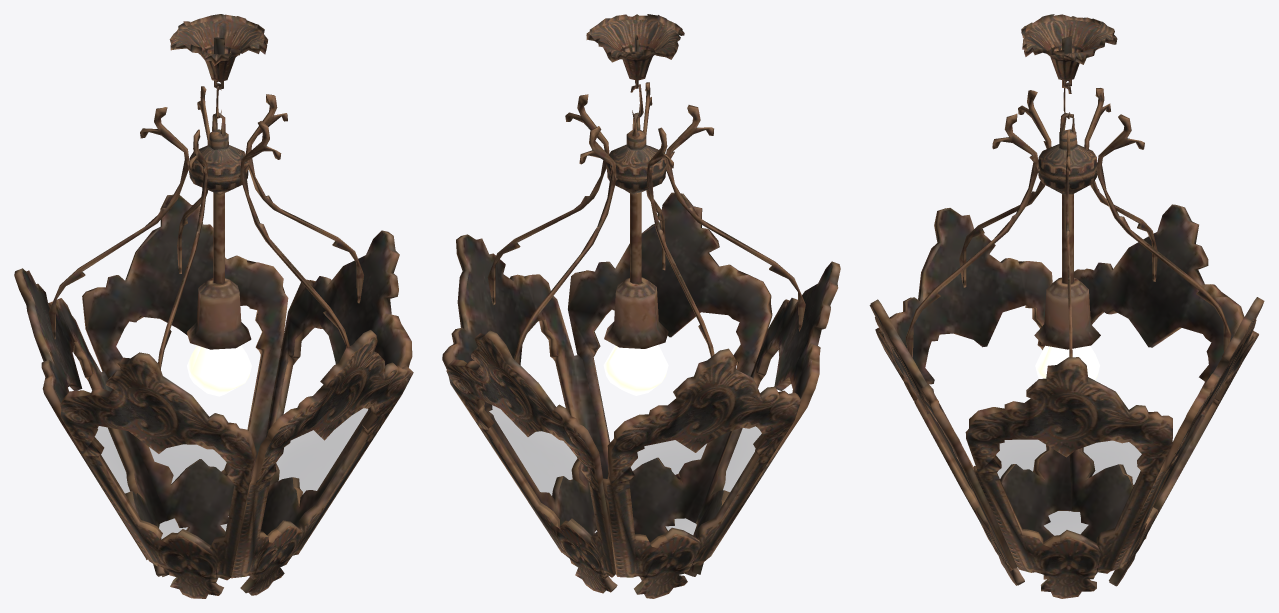
File: lantern_chandelier_01.glb
The picture shows the model from 3 angles, left to right: view 1: azimuth 30°, elevation 25°; view 2: azimuth 150°, elevation 25°; view 3: azimuth 270°, elevation 25°; orthographic projection.
Visible parts, largest first — view 1: lantern_chandelier_01; view 2: lantern_chandelier_01; view 3: lantern_chandelier_01.
Boxes of the visible parts, x1,y1,x2,y2 form: lantern_chandelier_01: (14, 14, 413, 598); lantern_chandelier_01: (442, 14, 840, 598); lantern_chandelier_01: (869, 14, 1264, 598).
Bounding box in the file's own units: 0.5792 × 0.8776 × 0.5746.
3 materials, 2 textured.
